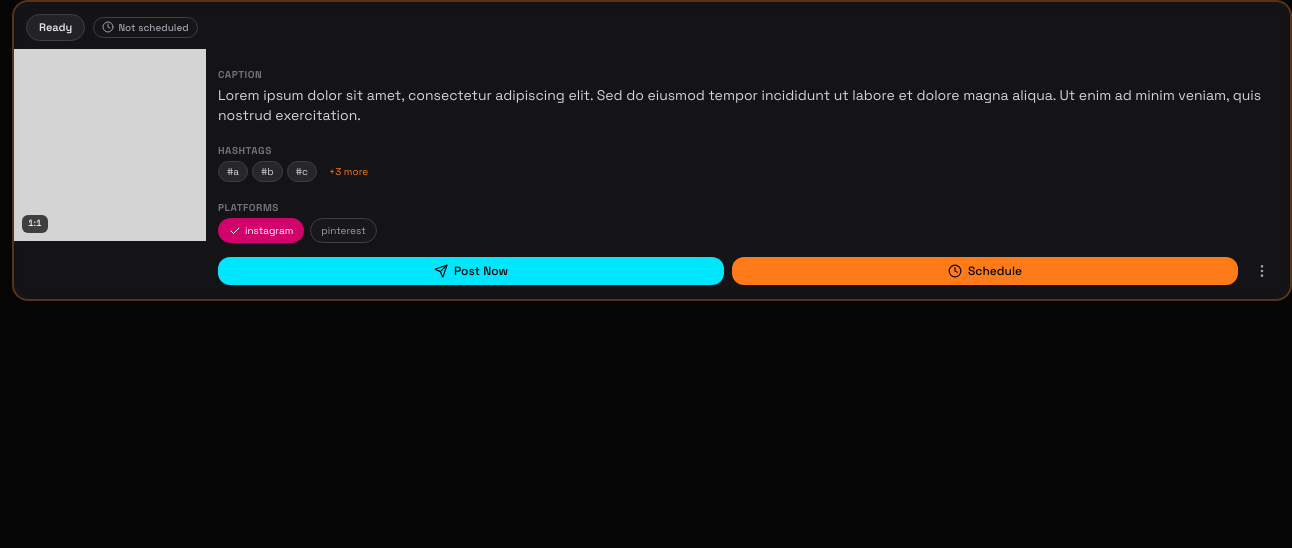
it: V060-001 — PostReadyCard layout & interactions › Schedule button toggles the inline calendar visibility
Click the button "Schedule" at (985, 270), box top-left (732, 256), bottom-right (1238, 284)
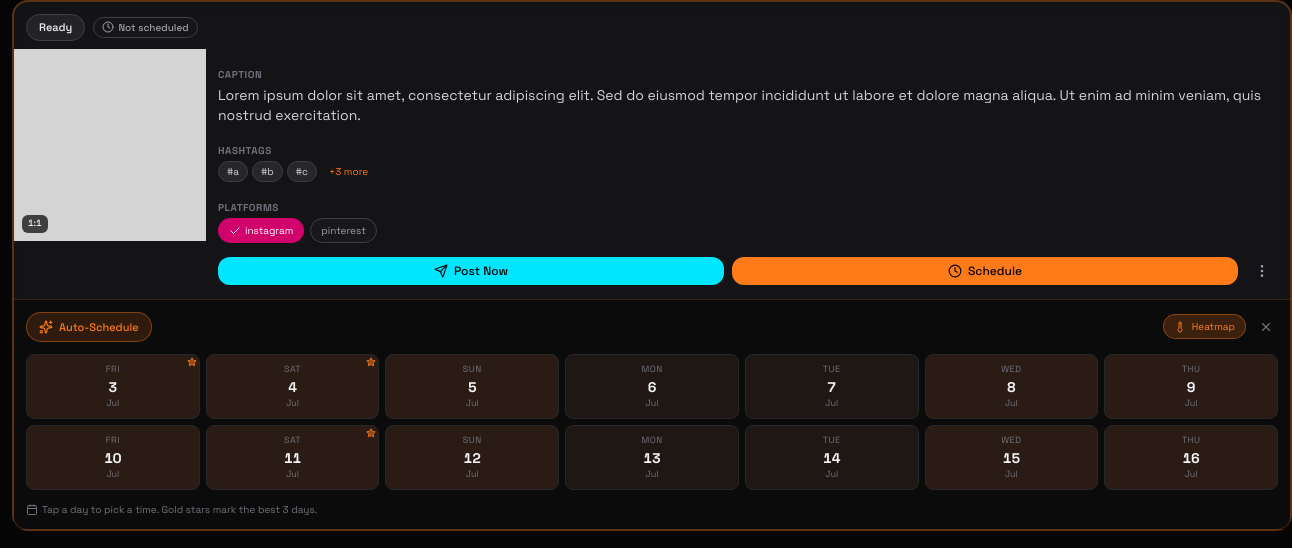
Check: the element named "Schedule calendar" is shown, box top-left (14, 298), bottom-right (1290, 529)
